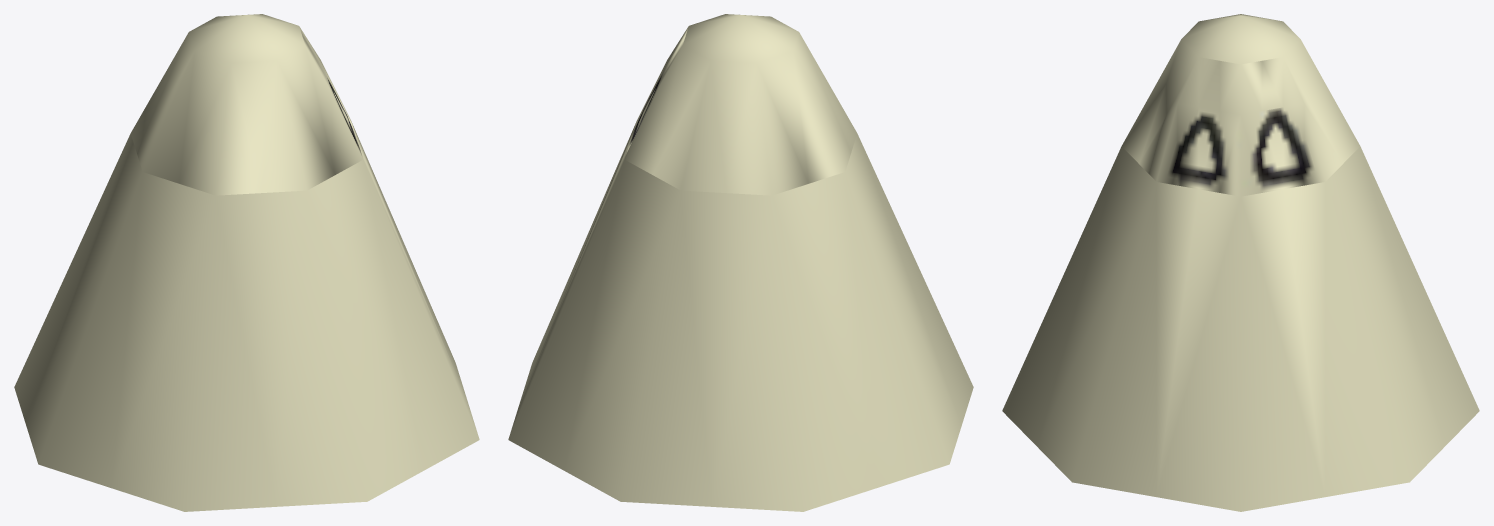
The model's file is hill4.dae.
3 renders of one model, left to right at view 1: azimuth 30°, elevation 25°; view 2: azimuth 150°, elevation 25°; view 3: azimuth 270°, elevation 25°, orthographic.
Parts seen in each view (by area): view 1: Circle; view 2: Circle; view 3: Circle.
Boxes of the visible parts, left/top/right/bottom form: Circle: left=14, top=14, right=479, bottom=511; Circle: left=508, top=14, right=973, bottom=511; Circle: left=1002, top=14, right=1479, bottom=511.
Bounding box in the file's own units: 2 × 2 × 1.83.
1 material, 1 textured.
